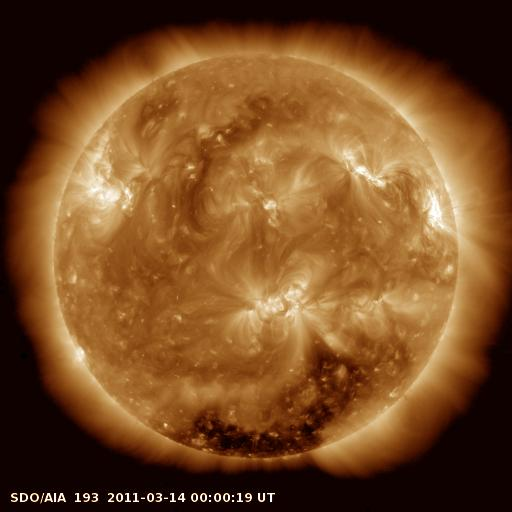coronal_hole: (177, 337, 387, 459)
